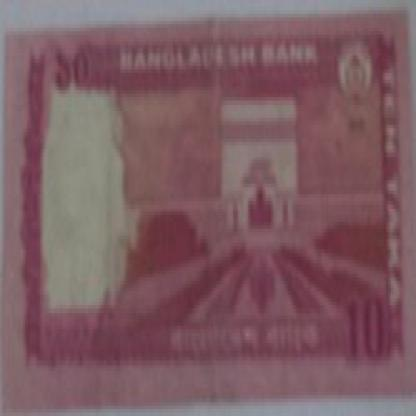Ten Taka: (341, 281, 386, 367), (43, 38, 98, 104)
